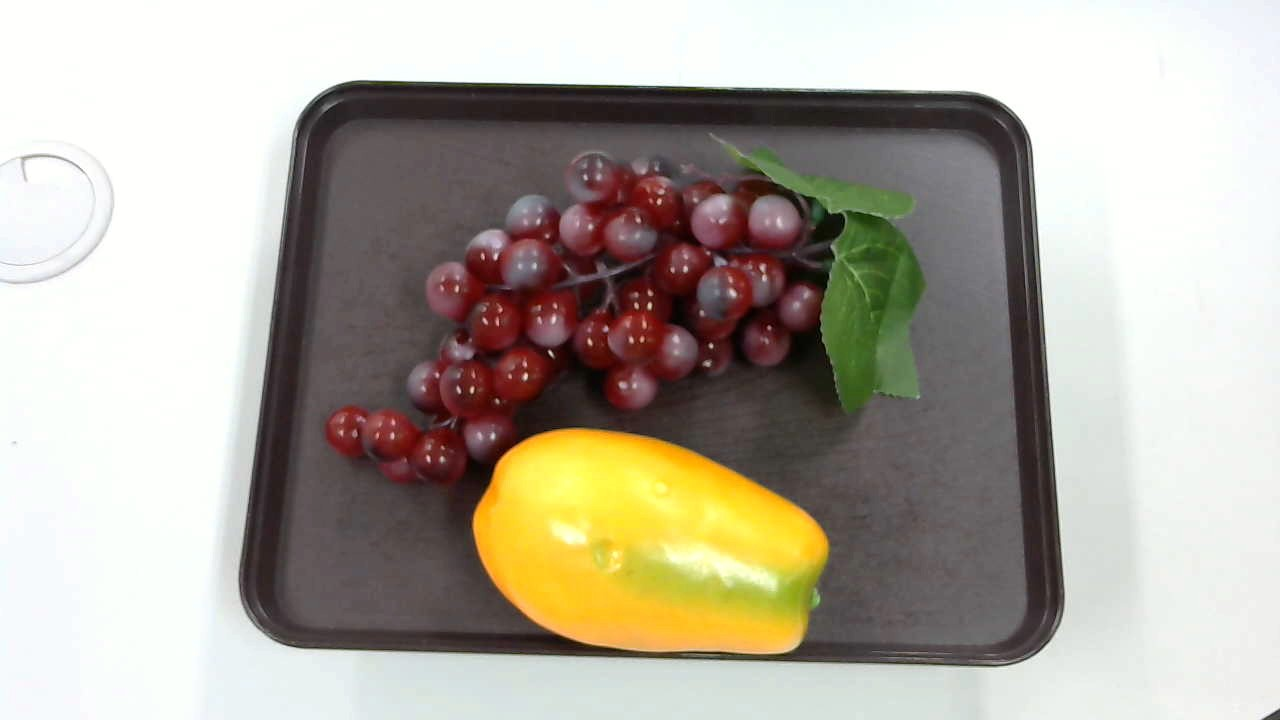grape: (329, 135, 917, 491)
papya: (471, 427, 832, 663)
